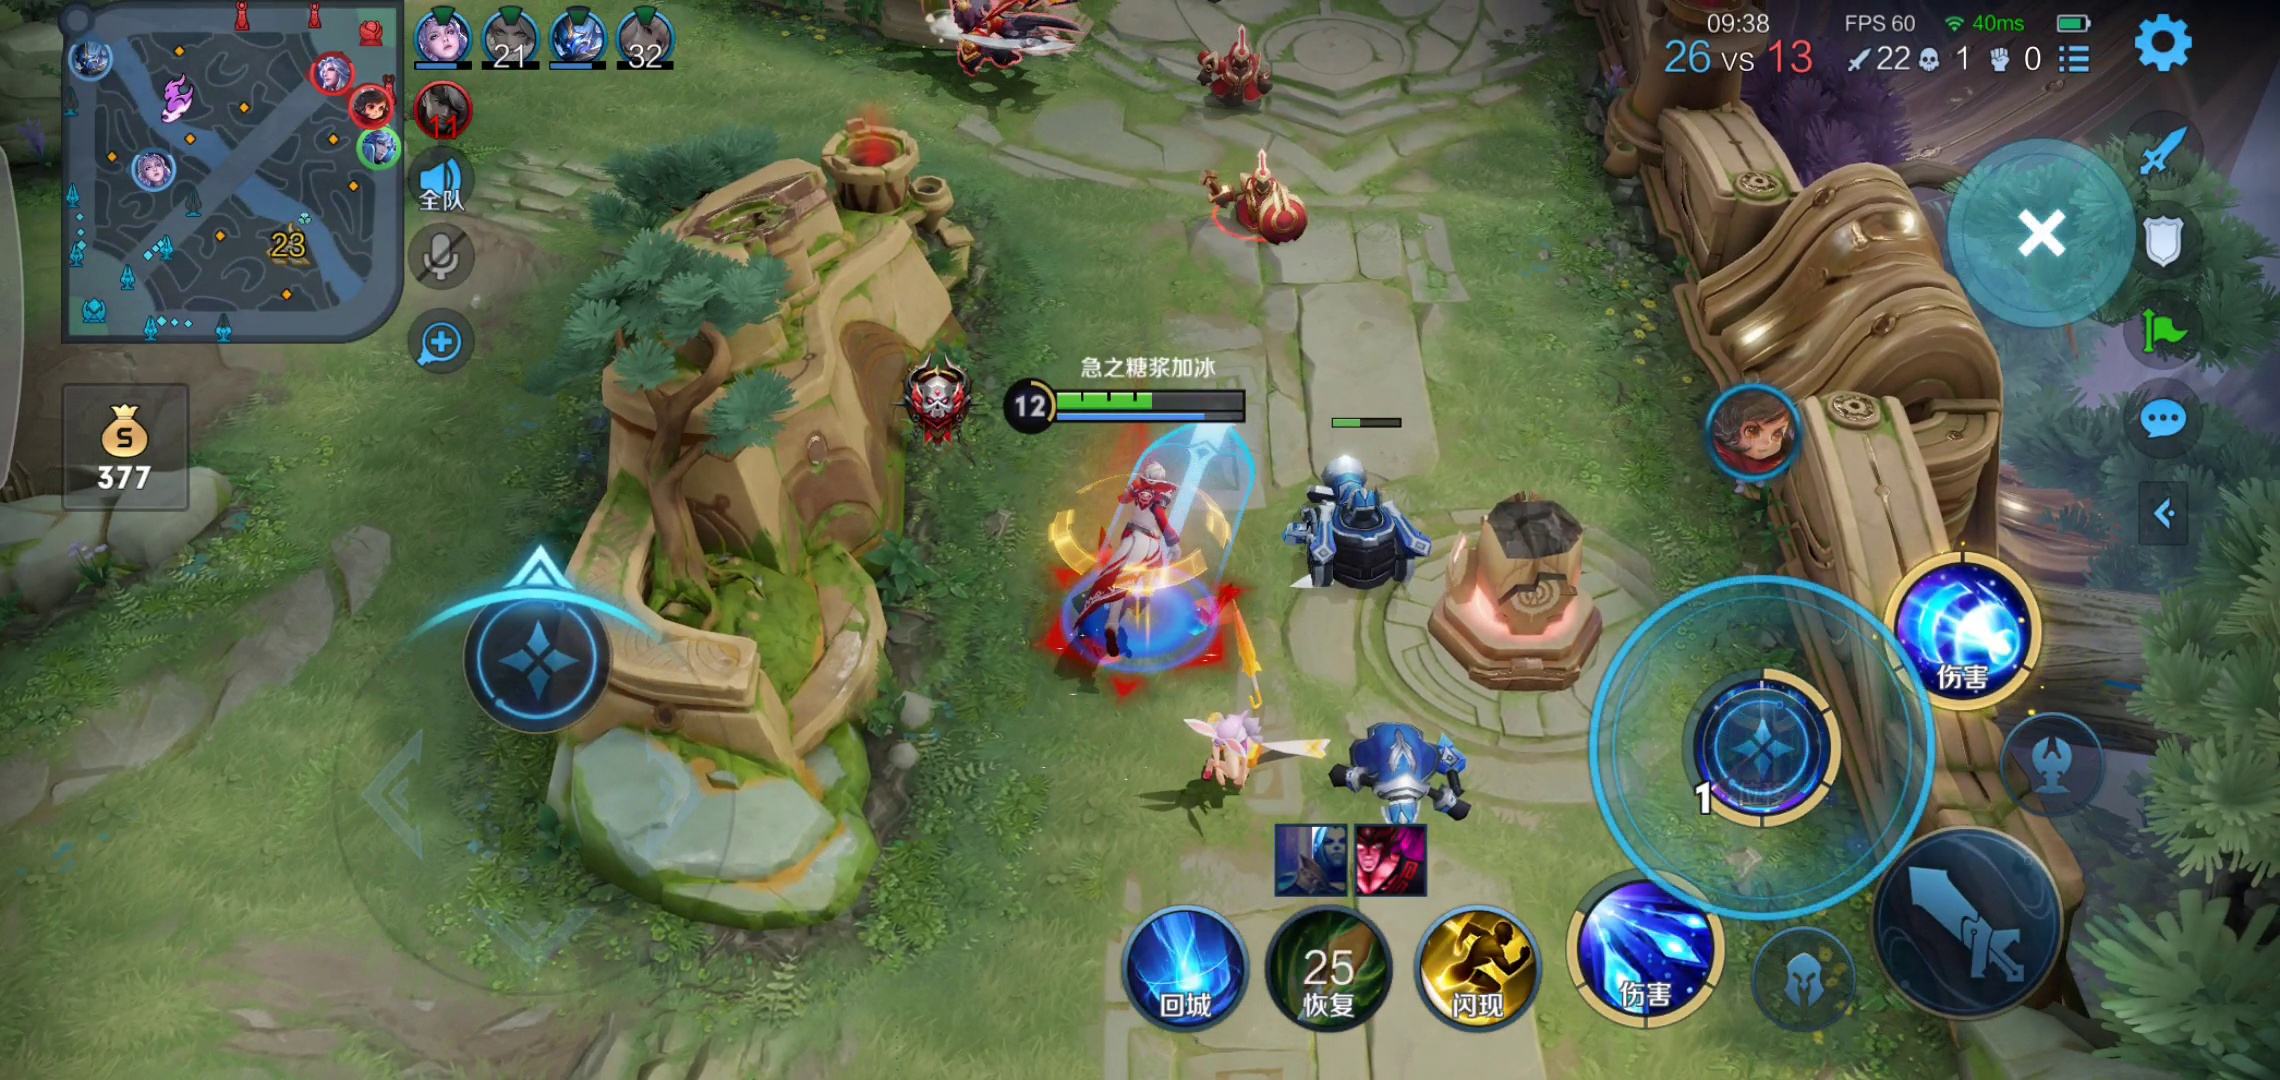hero: (1029, 443, 1219, 686), (920, 1, 1079, 93), (1179, 704, 1312, 797)
soldier: (1287, 440, 1431, 597), (1333, 715, 1482, 850), (1195, 141, 1332, 251), (1166, 19, 1307, 121)
tower: (1440, 501, 1605, 690)
